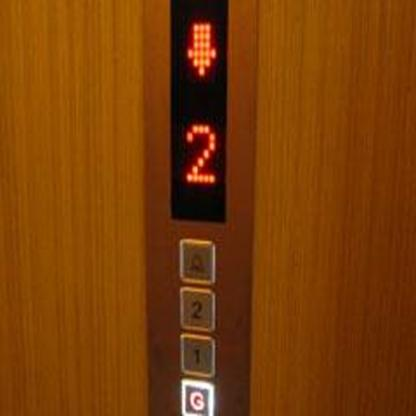1: (178, 330, 216, 378)
2: (177, 284, 216, 334)
G: (178, 376, 216, 415)
alarm: (177, 235, 217, 286)
led: (167, 0, 228, 225)
